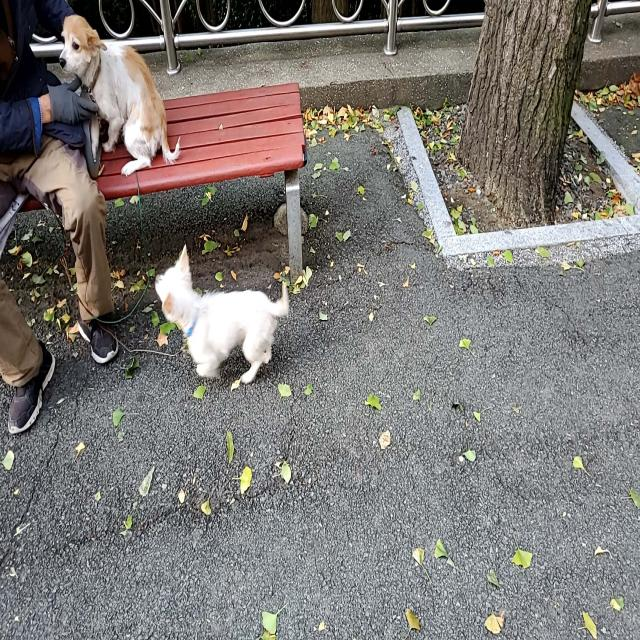Leashed_Dog: (0, 0, 291, 392), (1, 2, 181, 178)
